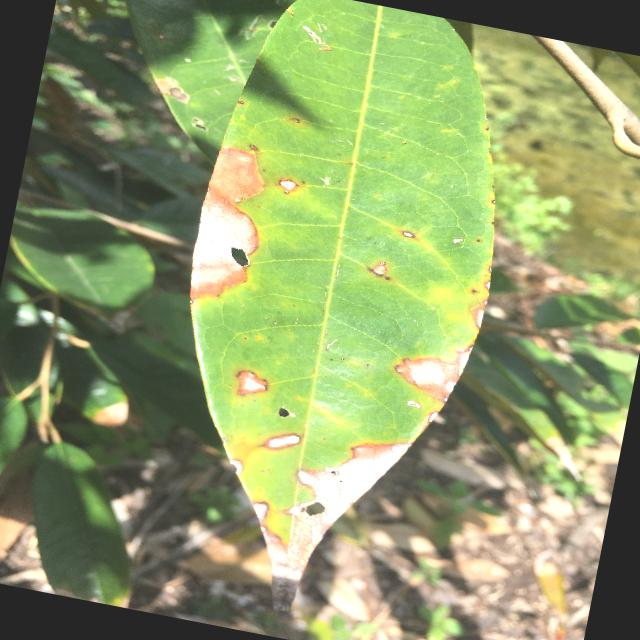Leaf Blight: (116, 0, 548, 639)
